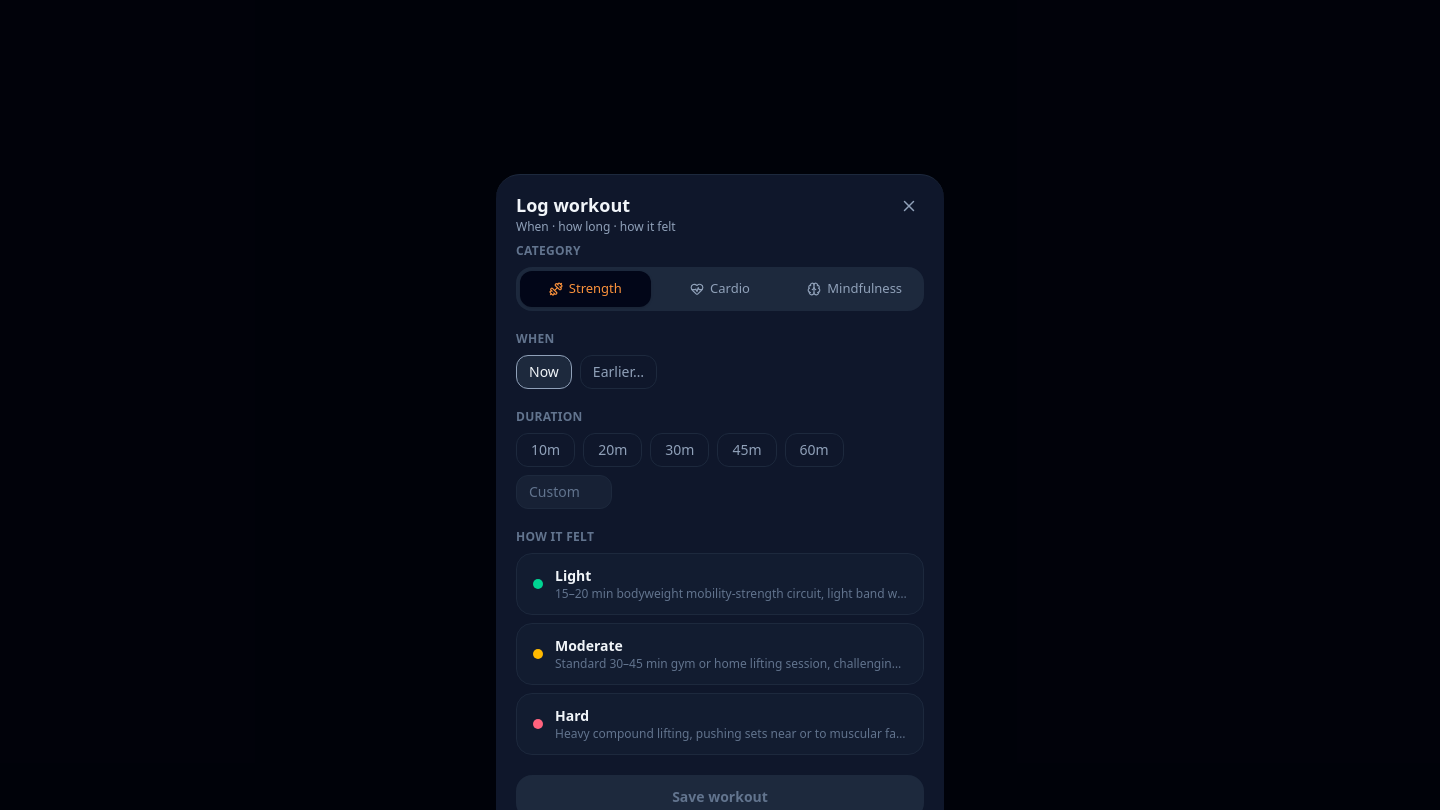
Test: LogWorkoutSheet › warns about overtraining when logging Hard during Rest
The width and height of the screenshot is (1440, 810).
Click the button "Hard" at (720, 724), box [516,692,924,754]
(page scrolled)
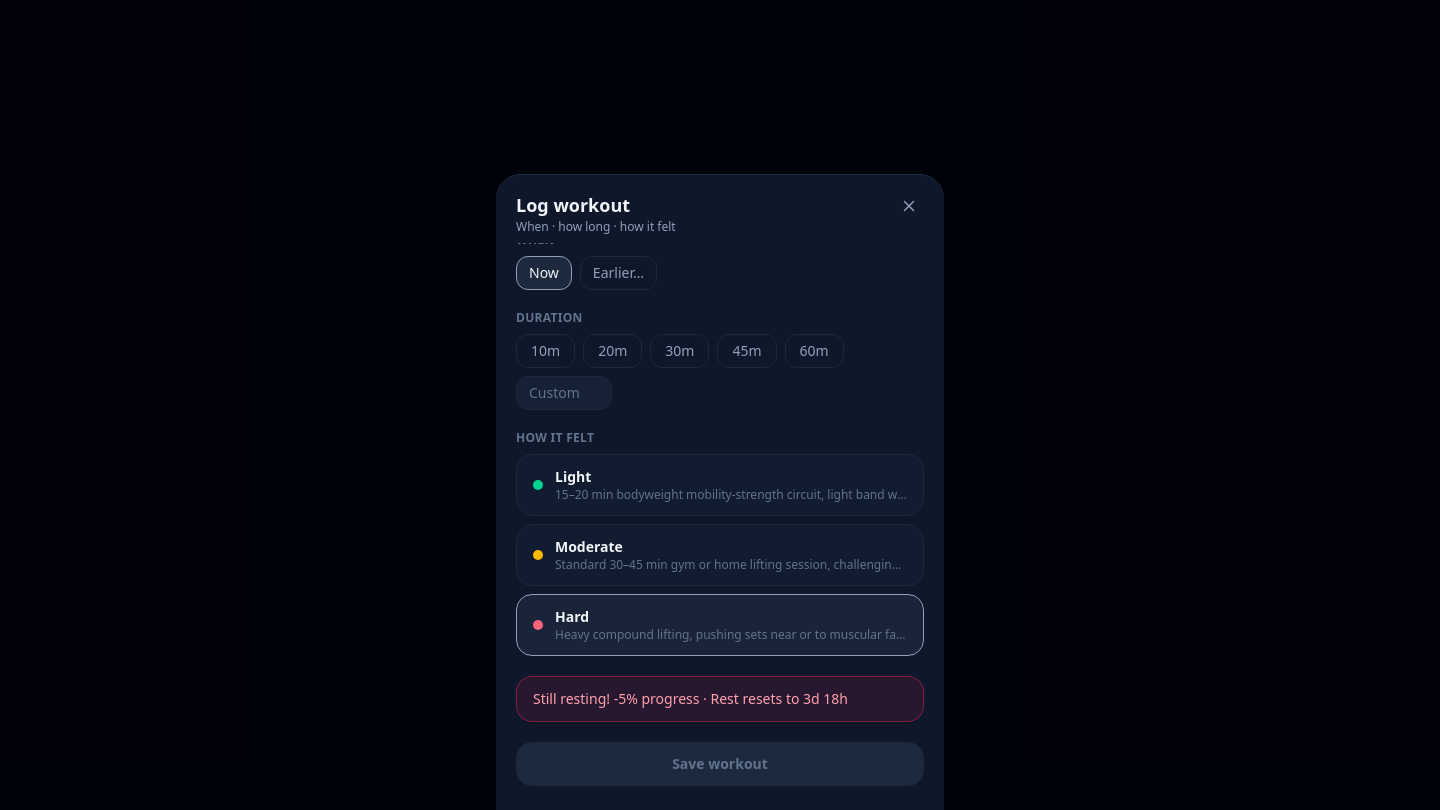
Check: the button "Save workout" is disabled, box [516,742,924,786]
Check: the text "Still resting! -5% progress · Rest resets to 3d 18h" is shown, box [516,676,924,722]
